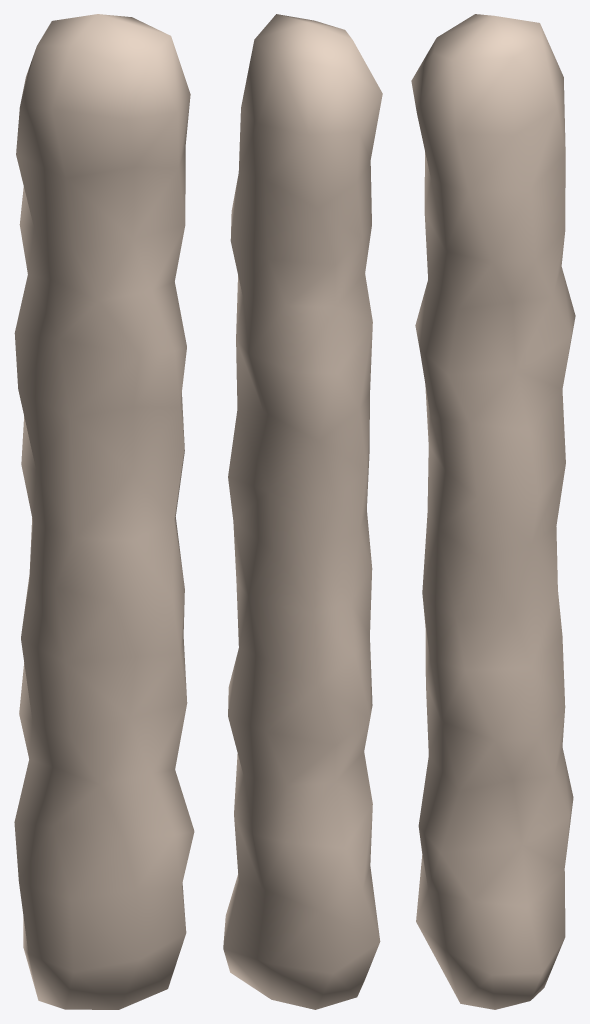
Rendered from Rock_Wall_Corner.fbx.
3 renders of one model, left to right at view 1: azimuth 30°, elevation 25°; view 2: azimuth 150°, elevation 25°; view 3: azimuth 270°, elevation 25°, orthographic.
Parts seen in each view (by area): view 1: Rock_Wall_Corner; view 2: Rock_Wall_Corner; view 3: Rock_Wall_Corner.
Part boxes in pixels (x1,y1,x2,y2): Rock_Wall_Corner: (14, 14, 194, 1009); Rock_Wall_Corner: (223, 14, 382, 1009); Rock_Wall_Corner: (411, 14, 575, 1009).
Size of the model in its own units: 50.12 by 304 by 46.32.
